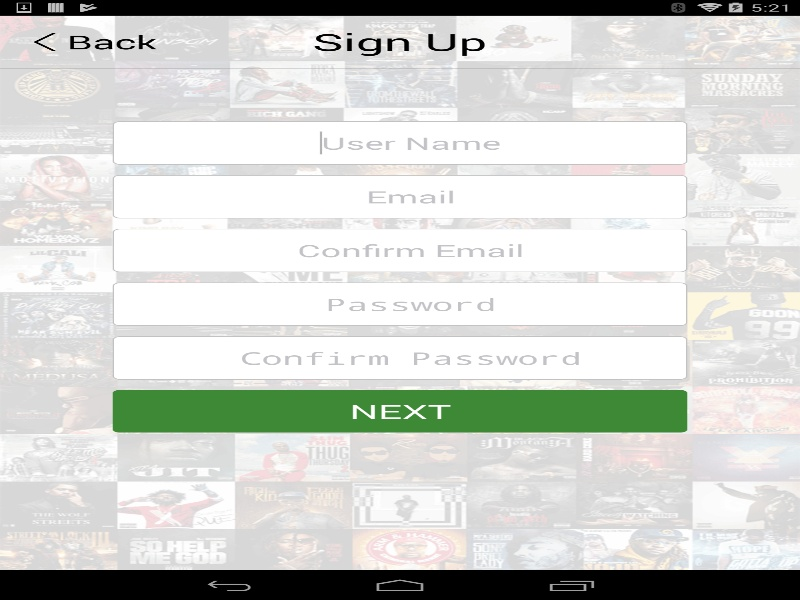Input: (112, 228, 687, 272), (112, 121, 687, 164), (112, 175, 687, 218), (112, 282, 687, 325), (112, 336, 687, 379)
